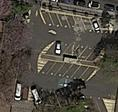parkingspot: (40, 10, 104, 34), (29, 87, 87, 112), (38, 60, 97, 82), (44, 41, 104, 62), (13, 83, 29, 103)
